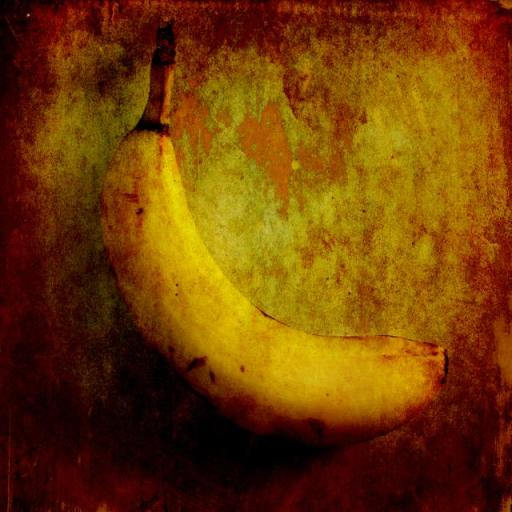fruit: (102, 27, 446, 444)
